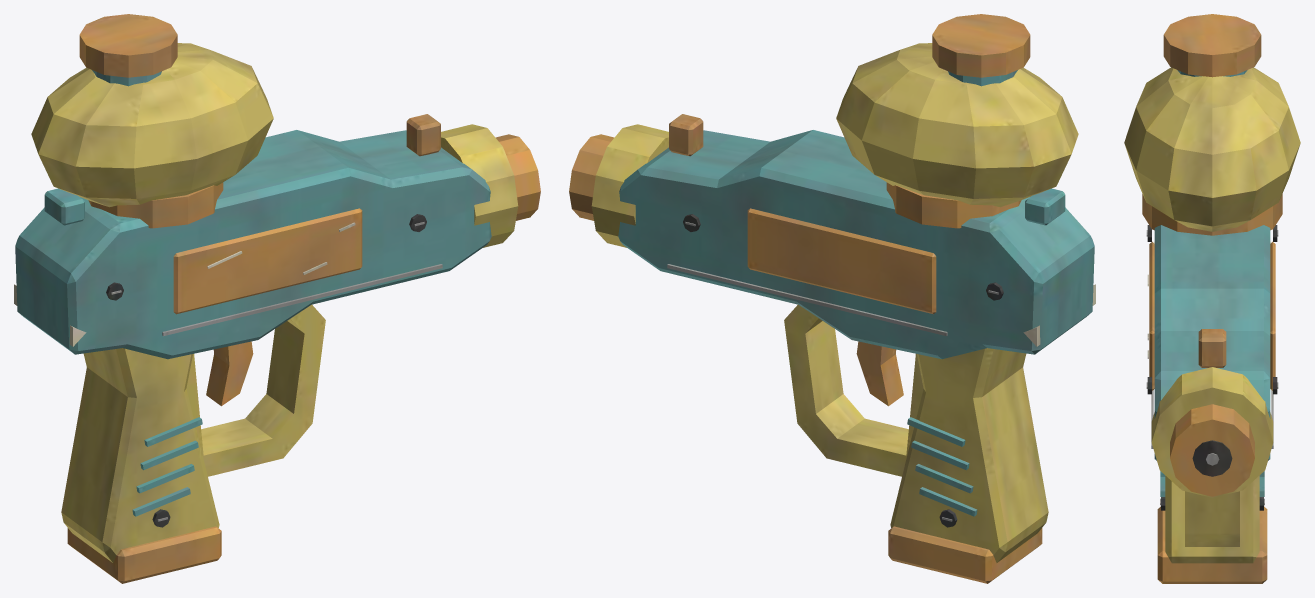
File: P32_water_pistol.glb
3 views of the same model, side by side, from view 1: azimuth 30°, elevation 25°; view 2: azimuth 150°, elevation 25°; view 3: azimuth 270°, elevation 25° (orthographic).
Visible parts, largest first — view 1: Two piece molded shell; view 2: Two piece molded shell; view 3: Two piece molded shell.
Boxes of the visible parts, x1=… form: Two piece molded shell: x1=14, y1=14, x2=540, y2=583; Two piece molded shell: x1=569, y1=14, x2=1095, y2=583; Two piece molded shell: x1=1124, y1=14, x2=1300, y2=583.
Size of the model in its own units: 0.1937 by 0.2 by 0.0617.
7 materials, 7 textured.
